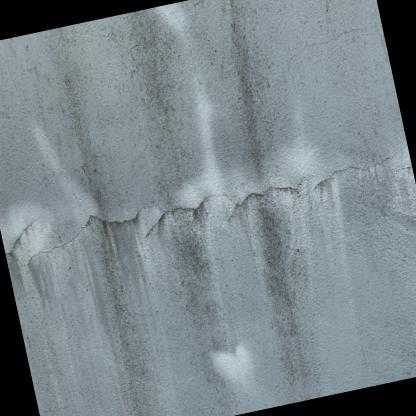crack: (147, 183, 297, 237), (33, 212, 140, 258), (313, 157, 370, 195), (4, 219, 31, 259)
